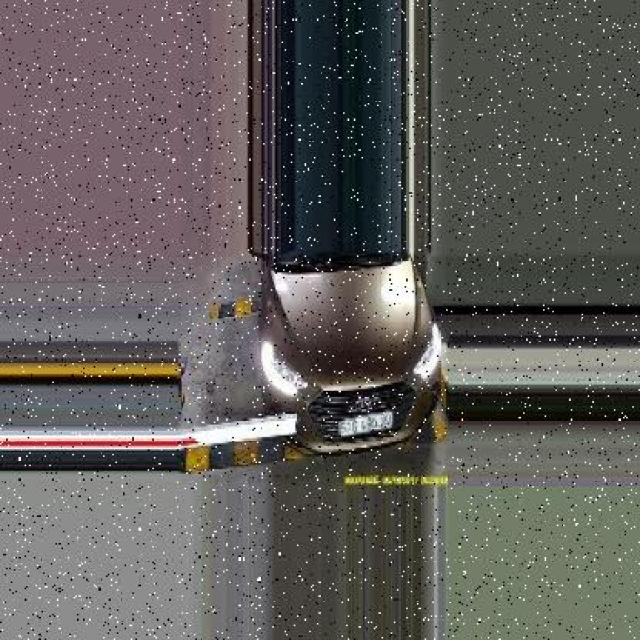number_plate: (338, 410, 394, 438)
